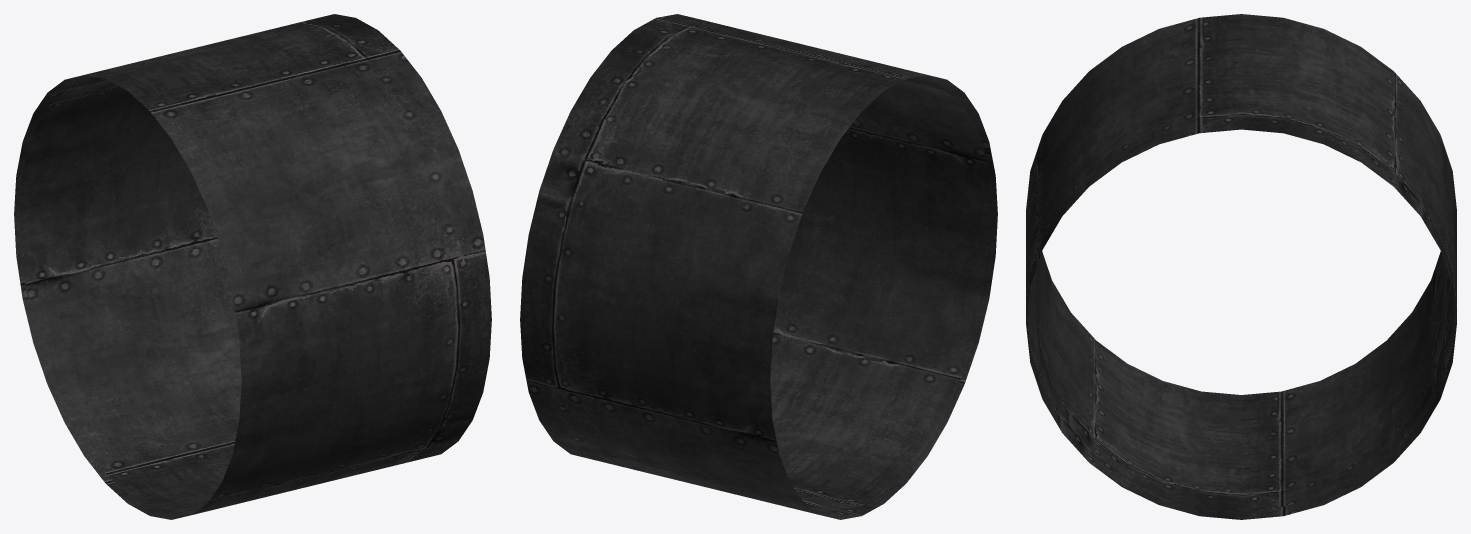
The model's file is engineroom_largepipe_short_vanilla.dae.
3 renders of one model, left to right at view 1: azimuth 30°, elevation 25°; view 2: azimuth 150°, elevation 25°; view 3: azimuth 270°, elevation 25°, orthographic. The views are drawn at different scales.
Parts seen in each view (by area): view 1: pCylinder1; view 2: pCylinder1; view 3: pCylinder1.
Part boxes in pixels (x1,y1,x2,y2): pCylinder1: (14, 14, 491, 519); pCylinder1: (520, 14, 997, 519); pCylinder1: (1026, 14, 1456, 519).
Bounding box in the file's own units: 200 × 315 × 315.
